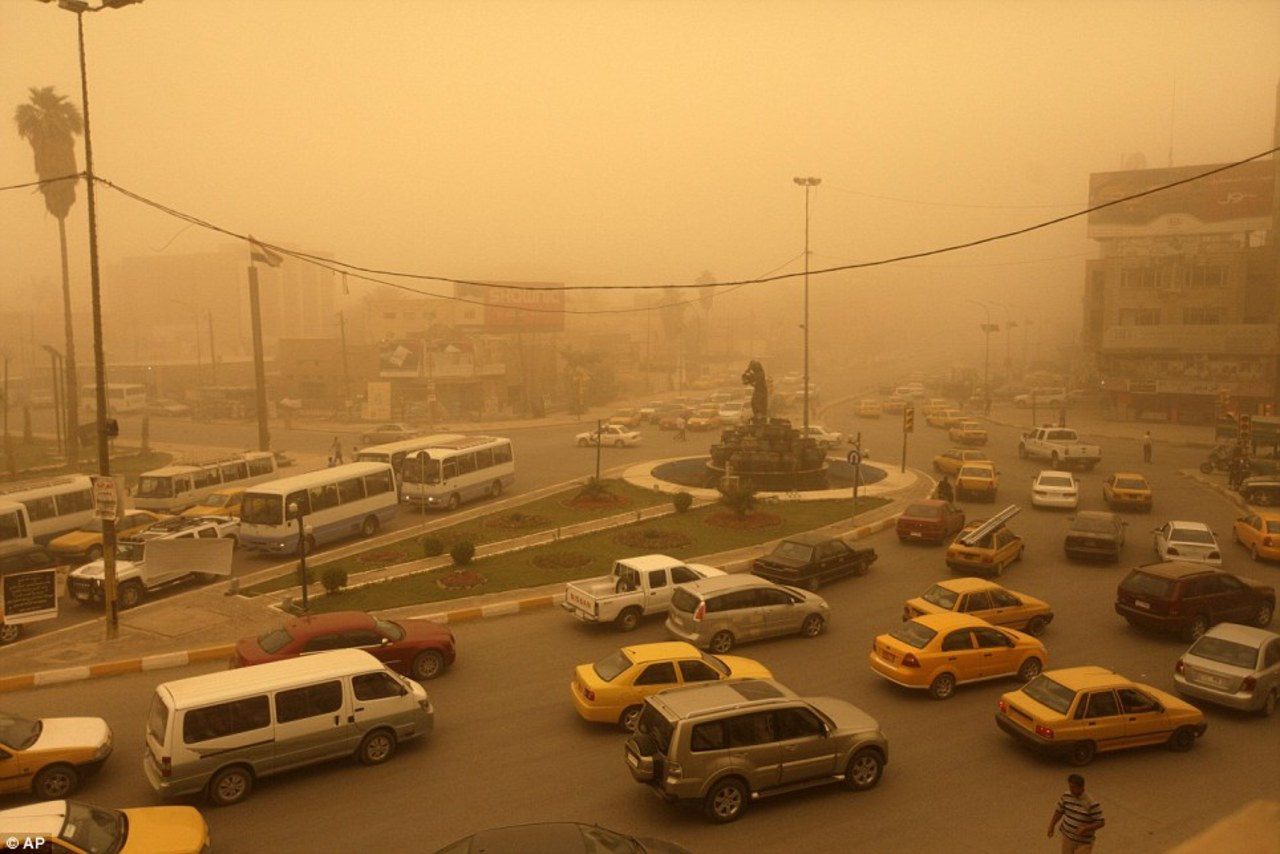bus: (144, 654, 438, 806), (233, 458, 398, 556), (402, 431, 517, 518), (138, 451, 273, 508), (0, 471, 93, 545), (358, 428, 456, 480), (79, 379, 148, 419), (0, 495, 34, 563)
car: (625, 690, 891, 822), (992, 664, 1213, 763), (564, 641, 760, 731), (240, 608, 456, 681), (865, 617, 1052, 697), (664, 572, 834, 651), (1113, 562, 1269, 640), (569, 540, 720, 616), (0, 707, 113, 804), (81, 529, 214, 610), (1172, 615, 1278, 713), (909, 578, 1055, 634), (751, 534, 876, 588), (950, 512, 1024, 577), (49, 510, 157, 543), (1063, 510, 1126, 564), (895, 499, 966, 546), (1018, 426, 1099, 467), (1153, 519, 1221, 563), (1235, 504, 1279, 563), (193, 482, 240, 533), (1030, 470, 1080, 514), (1104, 472, 1155, 512), (574, 420, 636, 449), (928, 438, 977, 473), (955, 460, 999, 498), (798, 419, 843, 449), (1016, 382, 1062, 405), (952, 419, 988, 442), (928, 408, 965, 424), (659, 408, 687, 429), (611, 406, 638, 427), (856, 394, 880, 416), (883, 392, 907, 414), (690, 410, 717, 429), (725, 405, 749, 426), (638, 397, 658, 419), (923, 398, 947, 414)
person: (1046, 762, 1104, 851), (1143, 424, 1154, 462), (329, 434, 342, 462)
